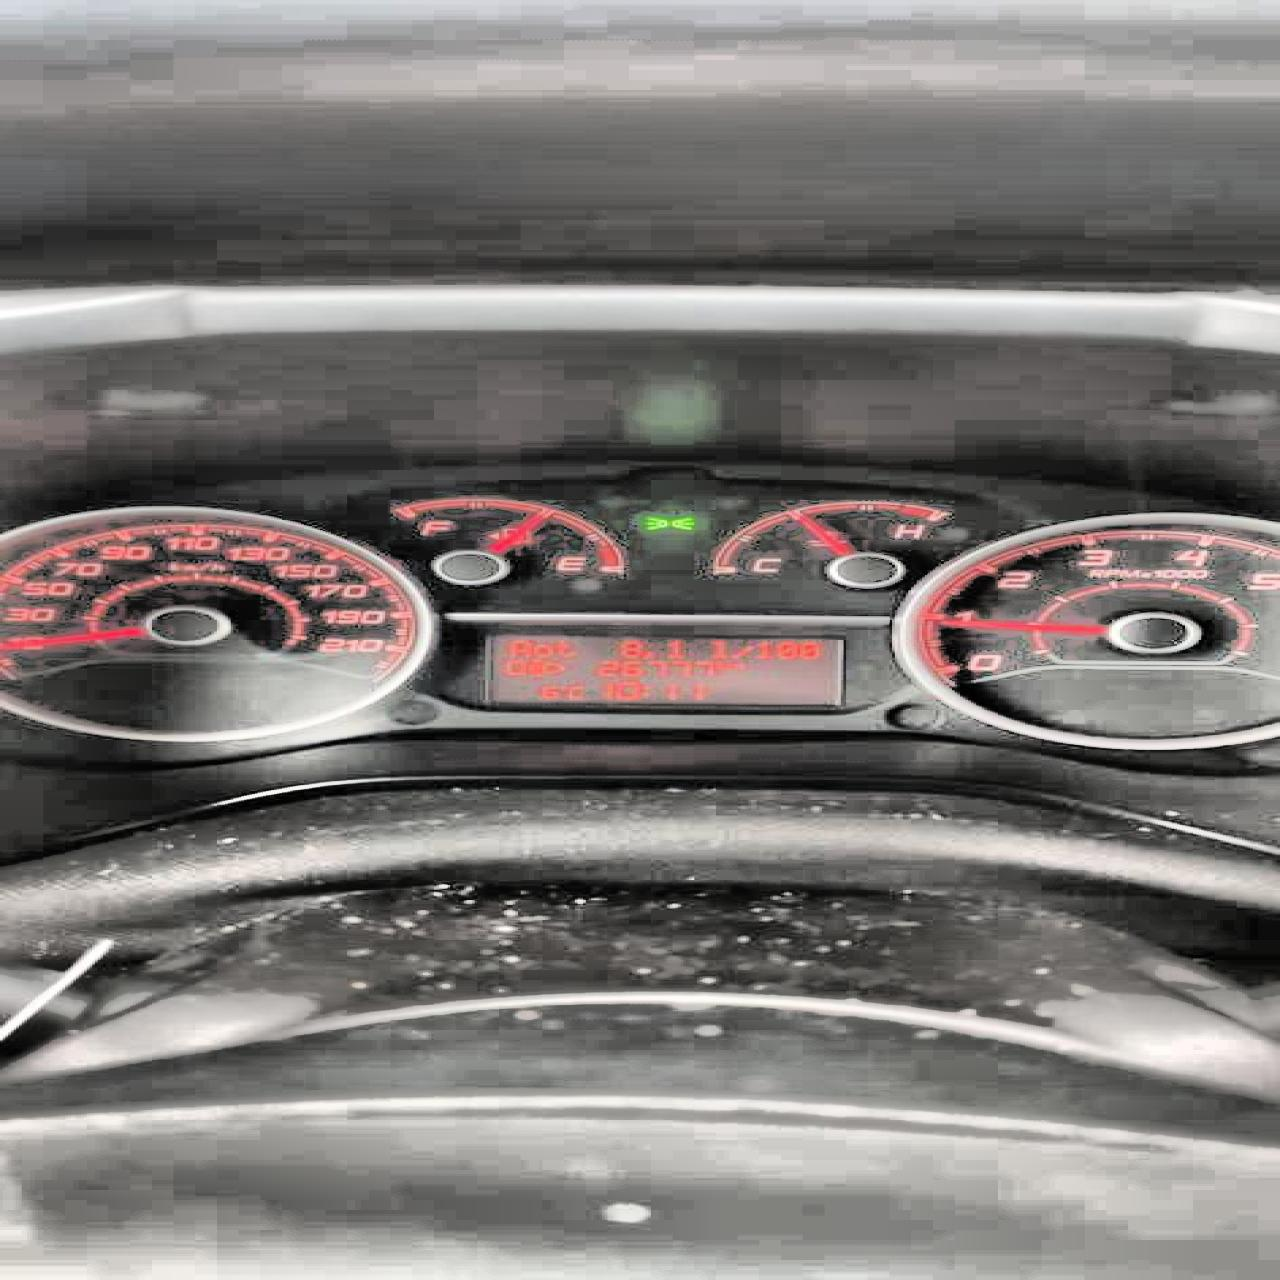-: (640, 648, 656, 658)
0: (613, 680, 640, 700), (772, 639, 797, 660), (797, 639, 818, 660), (502, 658, 526, 675)
1: (665, 638, 683, 659), (754, 639, 772, 660), (662, 680, 679, 699), (692, 681, 706, 700), (602, 680, 613, 700)
2: (597, 659, 615, 676)
6: (618, 659, 642, 676), (537, 683, 559, 699)
7: (669, 659, 692, 676), (692, 659, 713, 676), (648, 660, 665, 676)
8: (615, 638, 640, 658)
X: (508, 638, 532, 658), (553, 639, 578, 658), (708, 638, 727, 659), (729, 644, 754, 658), (531, 642, 551, 658), (567, 683, 584, 699), (724, 661, 743, 670), (640, 682, 648, 696), (713, 660, 724, 669)
odometer: (479, 628, 843, 707)
